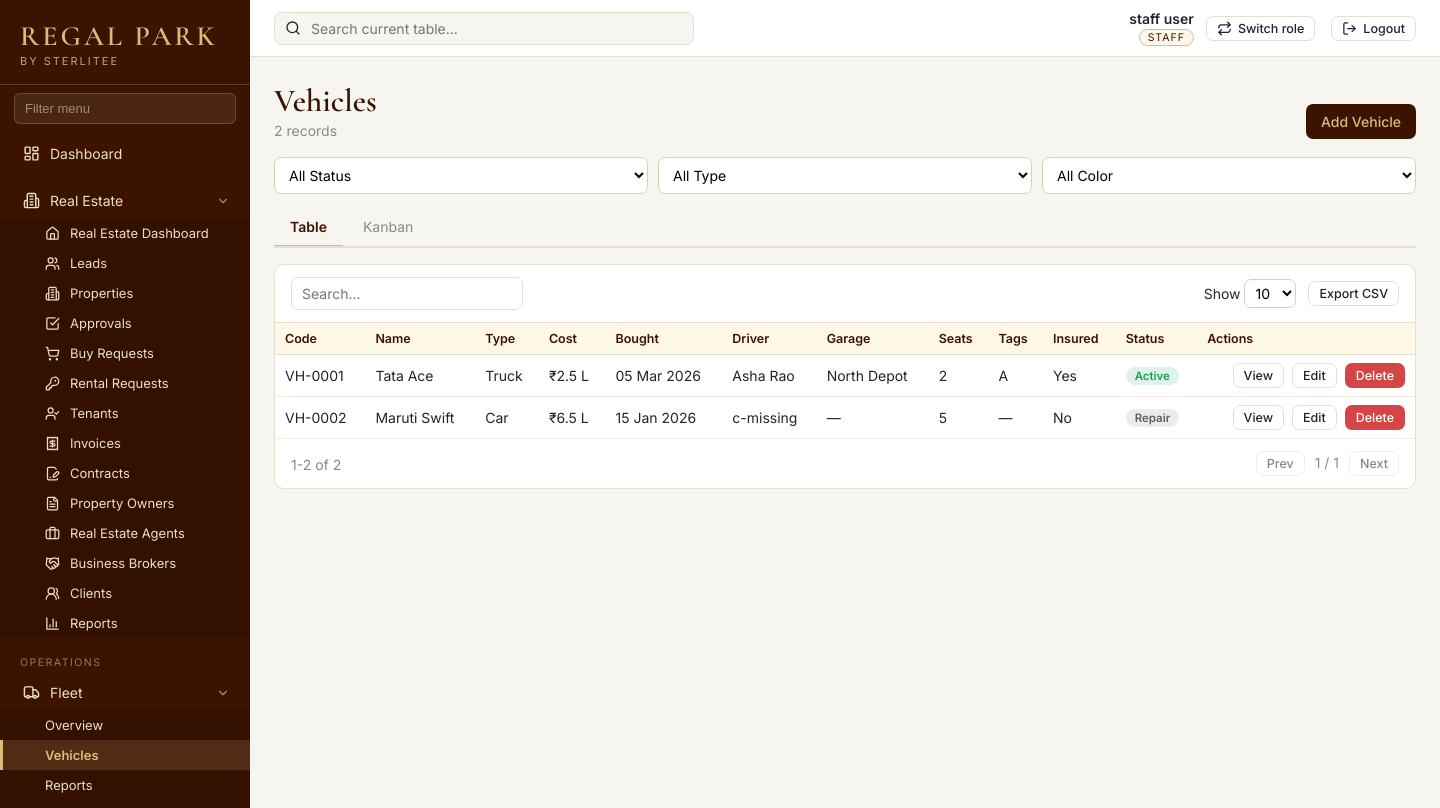
ModuleTable › add rejected by server (400) -> modal stays open with error, error toast
This screenshot has width=1440, height=808.
expect the button "Logout" is shown: met, box [1331,16,1416,40]
expect the text "Asha Rao" is shown: met, box [722,354,817,396]
Click the button "Add Vehicle". click: coordinates (1361, 122)
box: [1306,104,1416,139]
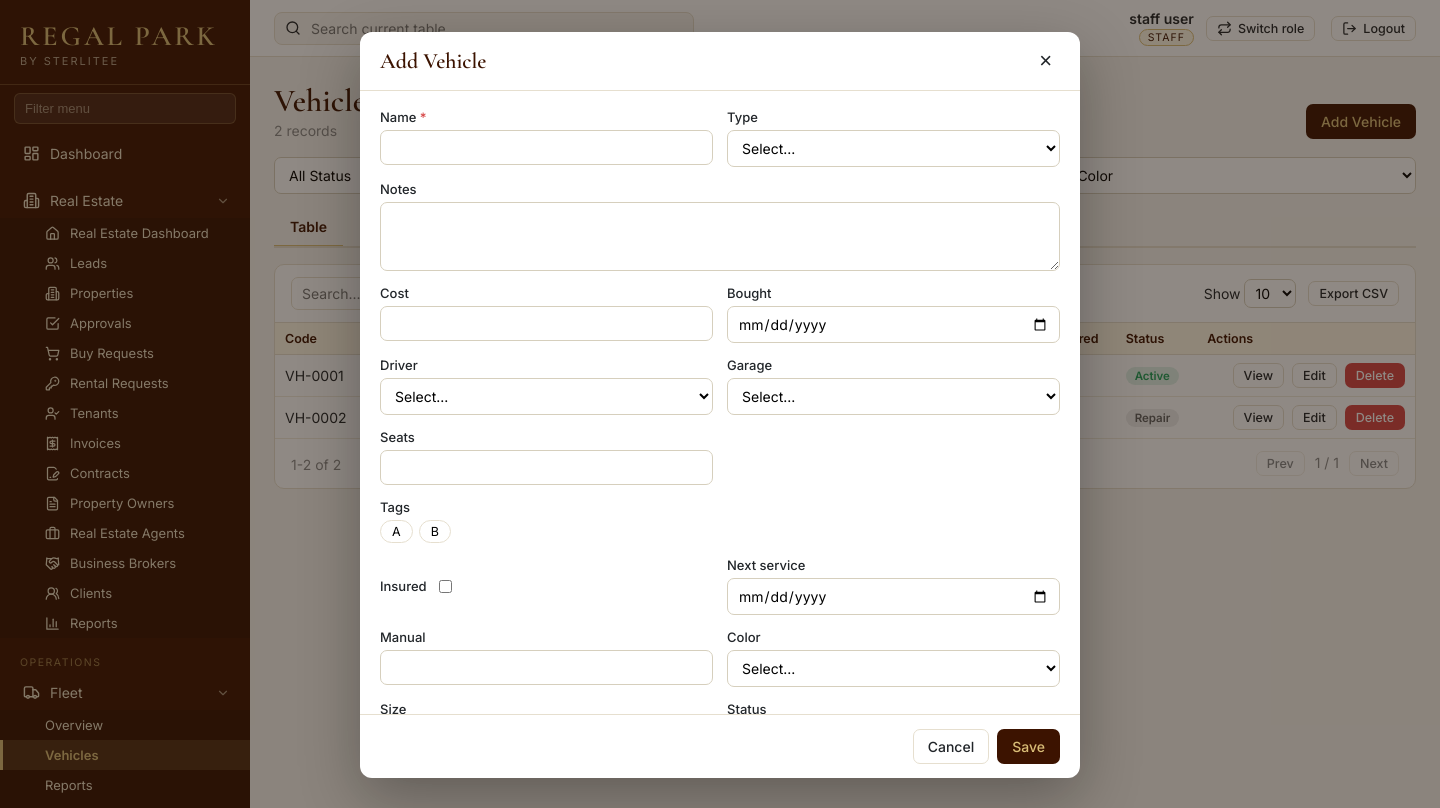
Type "X" into the field labelled "Name *". click: coordinates (546, 148)
box: [380,130,713,165]
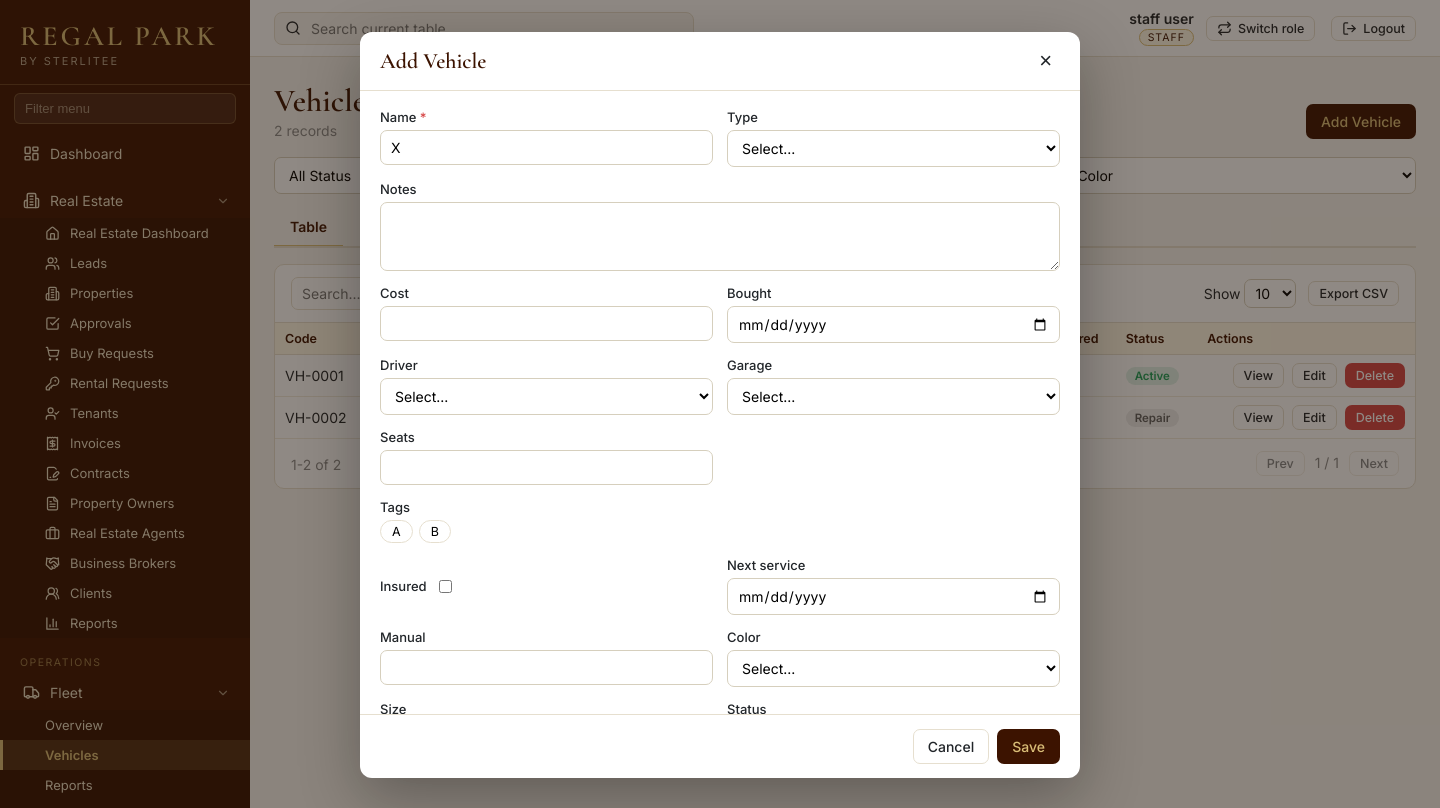
Click the button "Save". click: coordinates (1029, 746)
box: [997,729,1060,764]
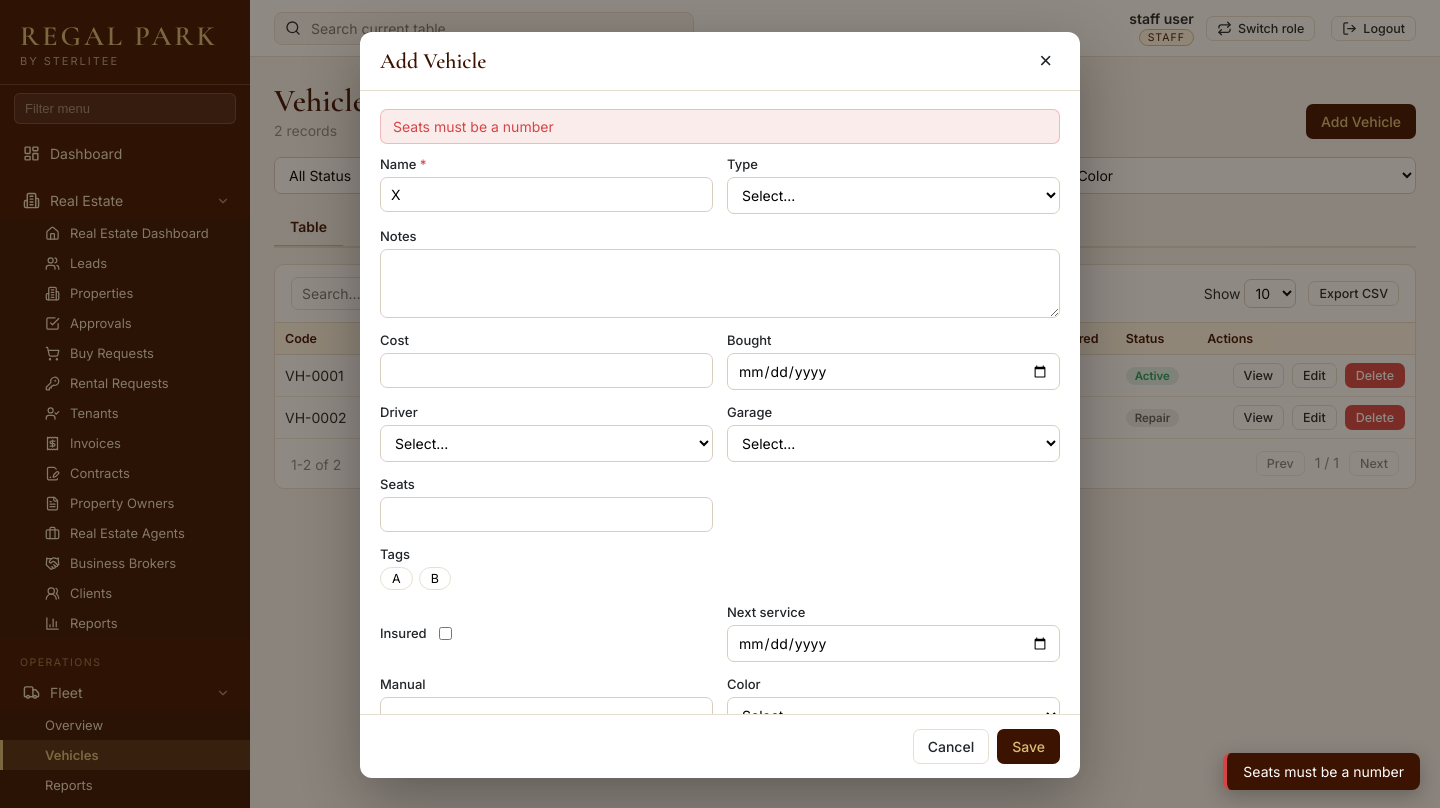
expect the dialog with class "modal" is shown: met, box [360,32,1080,778]
expect the text "Seats must be a number" in the row of "2 records" is shown: met, box [393,118,554,135]
